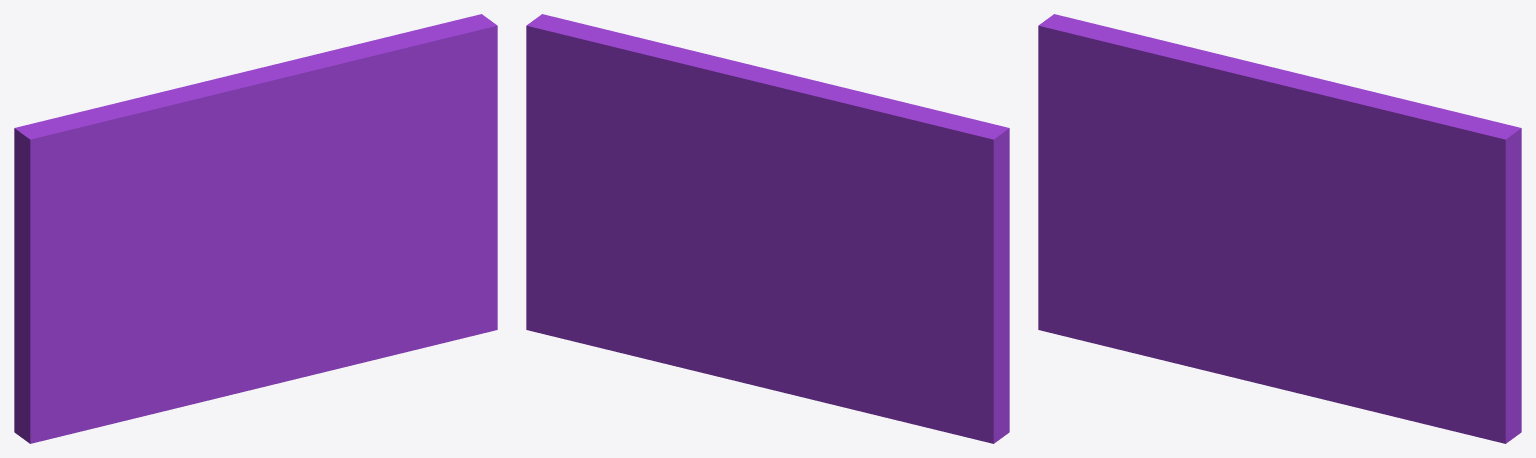
The model's file is Barrier_219_chunks.fbx.
3 renders of one model, left to right at view 1: azimuth 30°, elevation 25°; view 2: azimuth 150°, elevation 25°; view 3: azimuth 330°, elevation 25°, orthographic.
Parts seen in each view (by area): view 1: Barrier_219_0, Barrier_219_1, Barrier_219_2, Barrier_219_3; view 2: Barrier_219_2, Barrier_219_3, Barrier_219_0, Barrier_219_1; view 3: Barrier_219_0, Barrier_219_1, Barrier_219_2, Barrier_219_3.
Part boxes in pixels (left/top/right/bottom): Barrier_219_0: left=14, top=79, right=273, bottom=337; Barrier_219_1: left=218, top=184, right=497, bottom=397; Barrier_219_2: left=215, top=14, right=497, bottom=222; Barrier_219_3: left=14, top=263, right=243, bottom=443; Barrier_219_2: left=526, top=14, right=793, bottom=242; Barrier_219_3: left=746, top=219, right=1009, bottom=443; Barrier_219_0: left=774, top=74, right=1009, bottom=325; Barrier_219_1: left=526, top=204, right=773, bottom=390; Barrier_219_0: left=1038, top=14, right=1281, bottom=252; Barrier_219_1: left=1226, top=228, right=1521, bottom=443; Barrier_219_2: left=1254, top=63, right=1521, bottom=305; Barrier_219_3: left=1038, top=223, right=1251, bottom=375.
Bounding box in the file's own units: 462 × 288 × 27.2.
